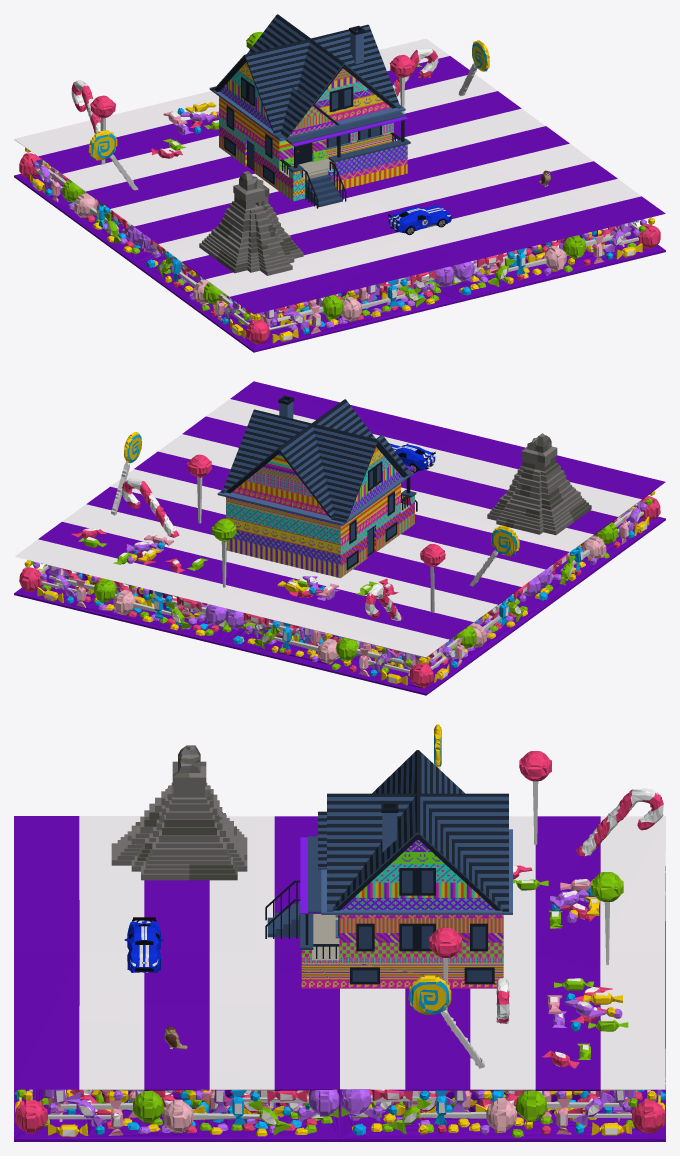
3 renders of one model, top to bottom at view 1: azimuth 30°, elevation 25°; view 2: azimuth 150°, elevation 25°; view 3: azimuth 270°, elevation 25°, orthographic. The views are drawn at different scales.
Visible parts, largest first — view 1: TERRAIN_CANDY, Cube.676, OBJRANDOM_GRAN_JAGUAR, VEHICLES_RACING_CAR; view 2: TERRAIN_CANDY, Cube.676, OBJRANDOM_GRAN_JAGUAR, VEHICLES_RACING_CAR; view 3: TERRAIN_CANDY, Cube.676, OBJRANDOM_GRAN_JAGUAR, VEHICLES_RACING_CAR.
Boxes of the visible parts, box(x1,y1,x2,y2) form: TERRAIN_CANDY: box(14, 31, 665, 352); Cube.676: box(209, 14, 410, 208); OBJRANDOM_GRAN_JAGUAR: box(199, 171, 303, 275); VEHICLES_RACING_CAR: box(388, 205, 451, 235); TERRAIN_CANDY: box(14, 381, 665, 695); Cube.676: box(217, 395, 417, 578); OBJRANDOM_GRAN_JAGUAR: box(487, 433, 591, 535); VEHICLES_RACING_CAR: box(389, 443, 435, 472); TERRAIN_CANDY: box(14, 724, 665, 1141); Cube.676: box(265, 750, 512, 988); OBJRANDOM_GRAN_JAGUAR: box(111, 745, 247, 880); VEHICLES_RACING_CAR: box(124, 917, 163, 972).
Size of the model in its own units: 4059 by 1600 by 4000.
Materials: 30 (6 with a texture image).
